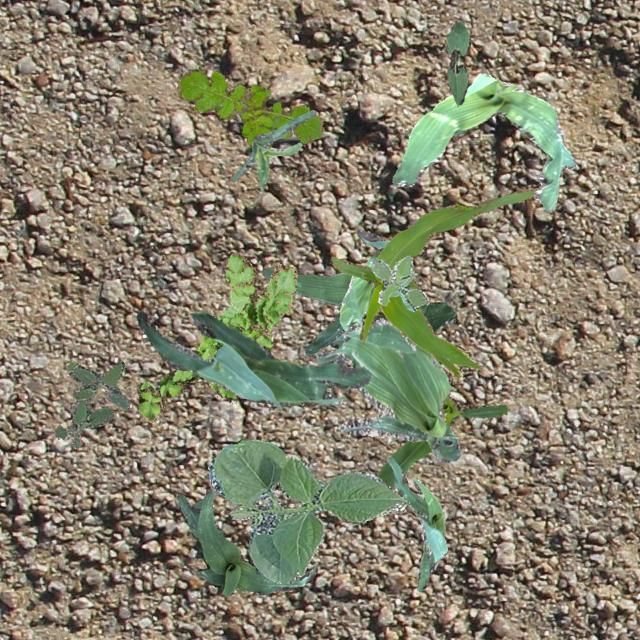crop: (328, 187, 538, 377), (206, 438, 406, 584), (392, 72, 574, 212), (136, 310, 370, 408), (316, 318, 460, 460), (262, 228, 388, 354), (176, 488, 316, 596), (376, 394, 508, 486), (386, 456, 446, 590), (232, 109, 314, 190), (329, 302, 454, 348), (338, 256, 376, 331), (444, 20, 470, 104)
weed: (138, 252, 296, 420), (175, 68, 322, 148), (54, 360, 128, 448), (370, 254, 428, 310)
